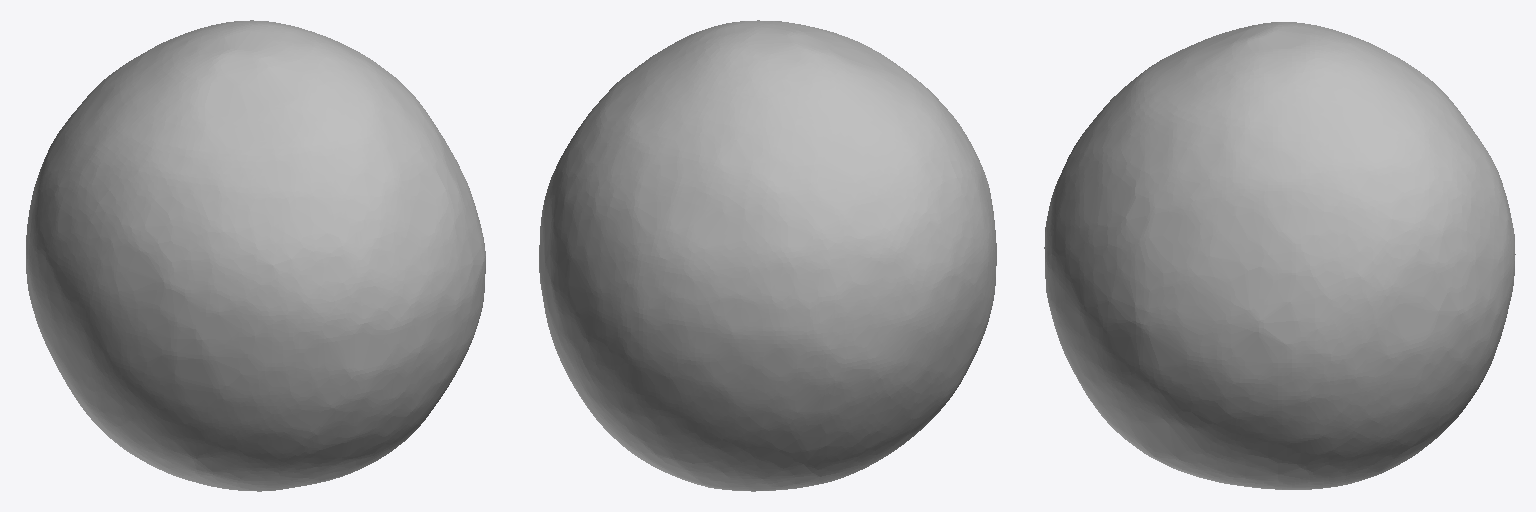
robot.urdf — root:
<robot name="root">
  <link name="link_coacd_convex_piece_0">
    <inertial>
      <origin xyz="0 0 0" rpy="0 0 0"/>
      <inertia ixx="1.12E-07" ixy="-3.79E-10" ixz="8.01E-10" iyy="1.09E-07" iyz="-3.44E-10" izz="1.10E-07"/>
    </inertial>
    <visual>
      <origin xyz="0 0 0" rpy="0 0 0"/>
      <geometry>
        <mesh filename="coacd_convex_piece_0.obj" scale="1.0000E+00 1.0000E+00 1.0000E+00"/>
      </geometry>
      <material name="">
        <color rgba="7.50E-01 7.50E-01 7.50E-01 1"/>
      </material>
    </visual>
    <collision>
      <origin xyz="0 0 0" rpy="0 0 0"/>
      <geometry>
        <mesh filename="coacd_convex_piece_0.obj" scale="1.0000E+00 1.0000E+00 1.0000E+00"/>
      </geometry>
    </collision>
  </link>
</robot>

--- Render facts (derived) ---
The picture shows the robot from 3 angles, left to right: view 1: azimuth 30°, elevation 25°; view 2: azimuth 150°, elevation 25°; view 3: azimuth 270°, elevation 25°; orthographic projection.
Robot: root — 1 links, 0 joints (none); root link link_coacd_convex_piece_0; default pose: all joints at 0.
Visible links, largest first — view 1: link_coacd_convex_piece_0; view 2: link_coacd_convex_piece_0; view 3: link_coacd_convex_piece_0.
Link boxes in pixels (x1,y1,x2,y2): link_coacd_convex_piece_0: (26,20,485,491); link_coacd_convex_piece_0: (539,20,996,491); link_coacd_convex_piece_0: (1044,22,1515,489).
Size in the robot's own frame: 0.0729 by 0.0748 by 0.0721 metres.
1 mesh visuals loaded from 1 distinct referenced files (1 OBJ).